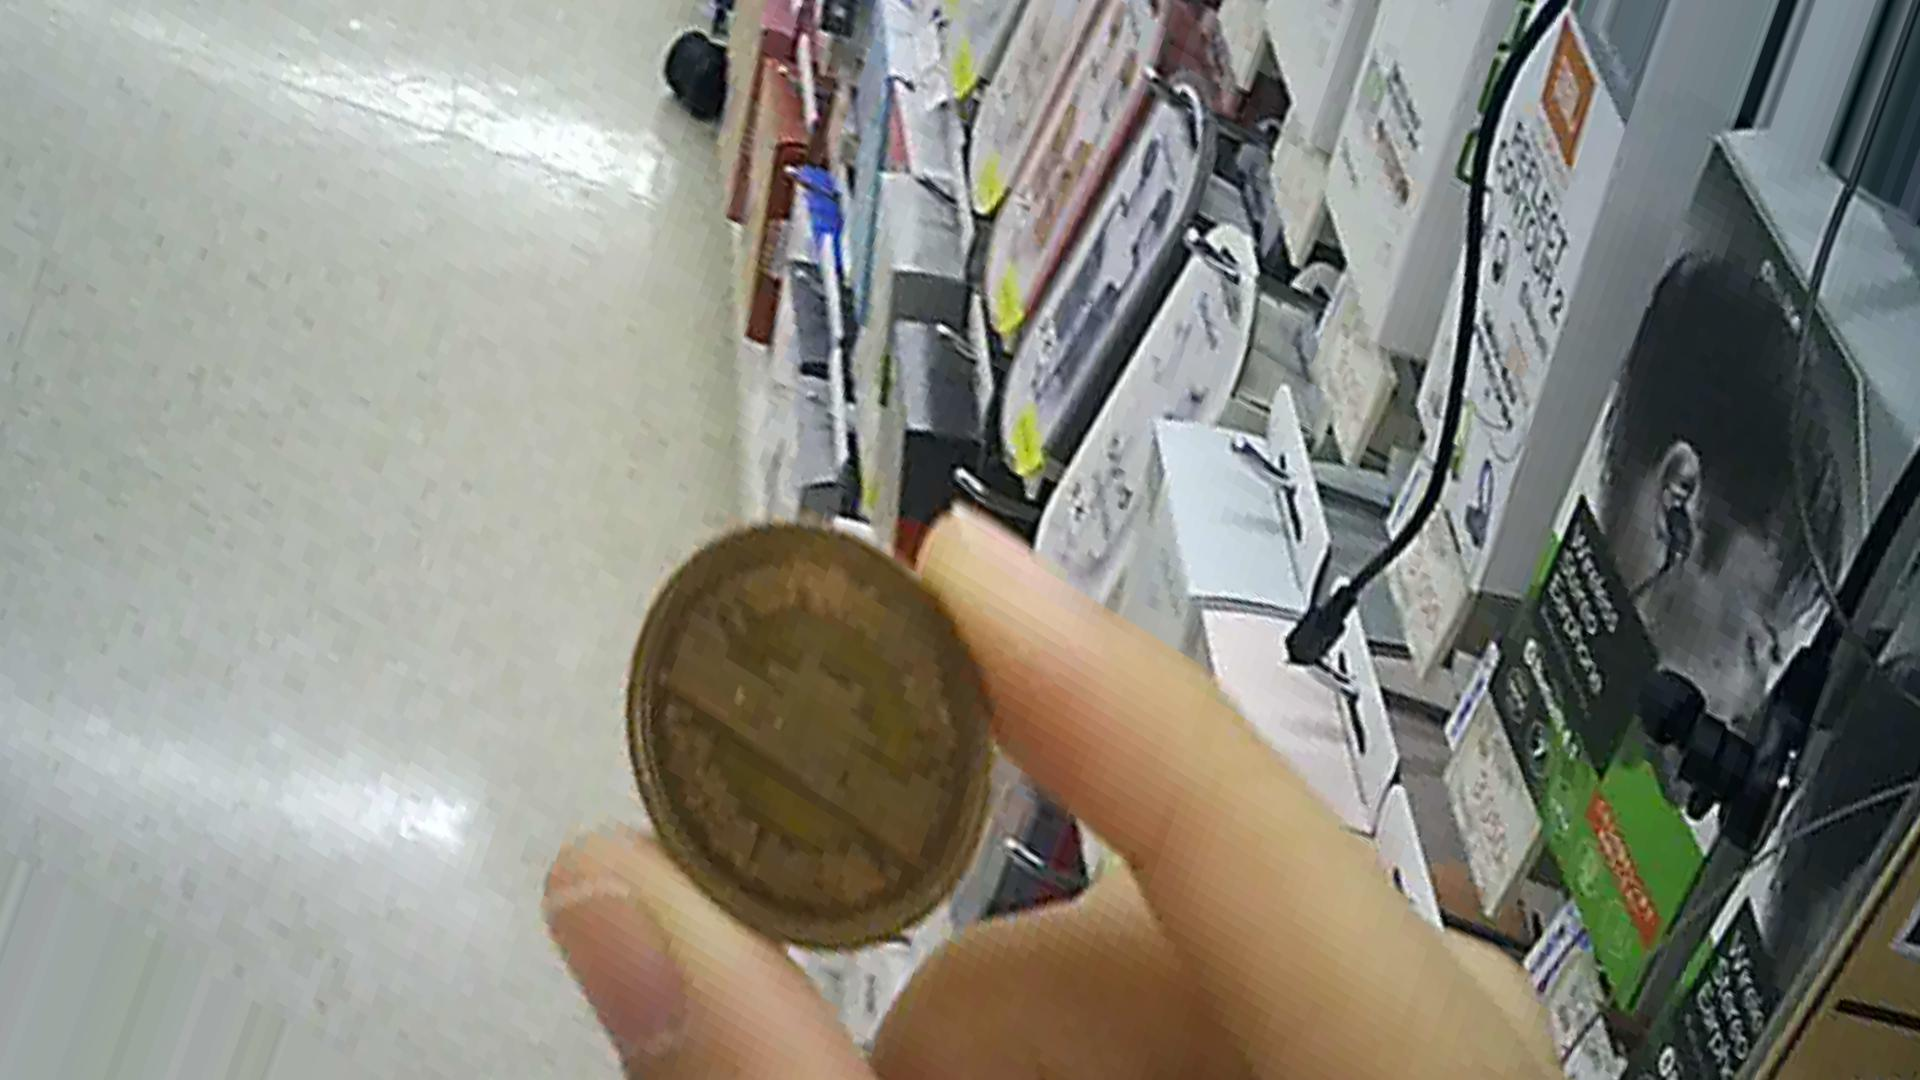10 Yen: (624, 510, 1015, 960)
